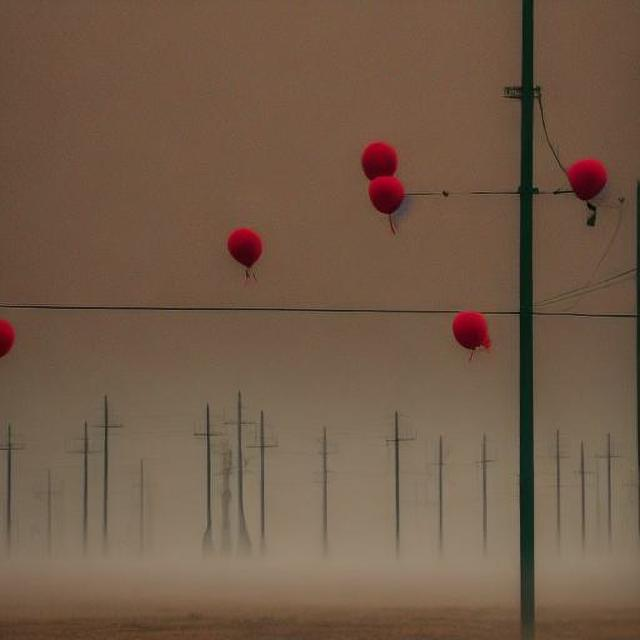balloon: (354, 138, 405, 213), (553, 153, 611, 204), (442, 306, 494, 362), (220, 223, 264, 274)
